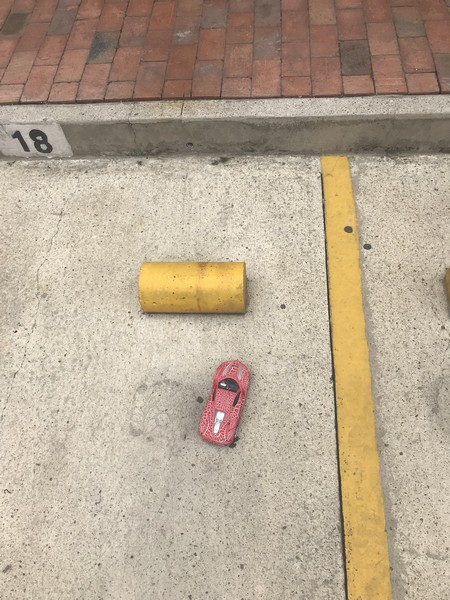RC: (195, 359, 251, 448)
